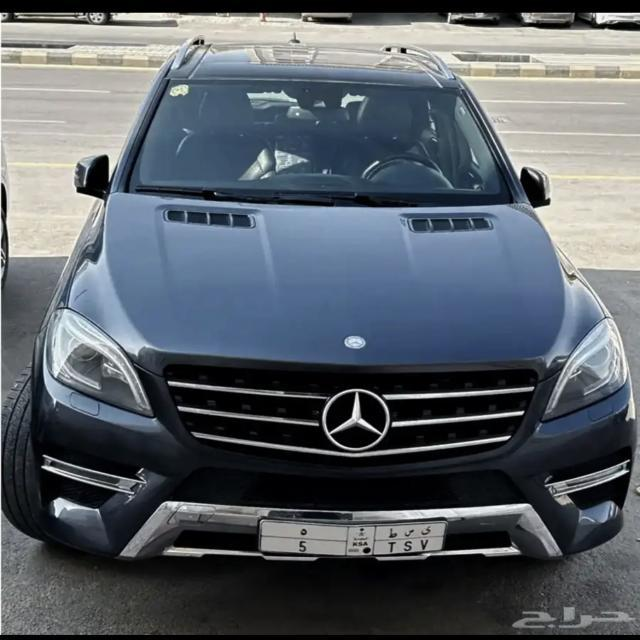license_plate: (260, 518, 444, 556)
